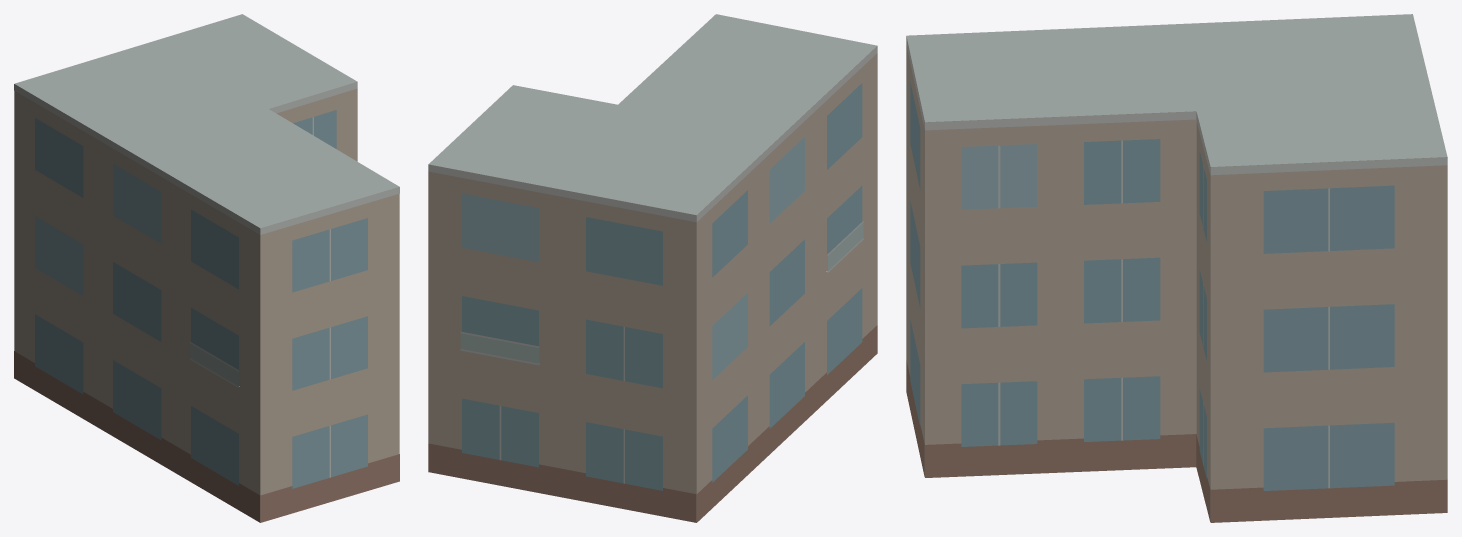
The model's file is survey-upis-32677549.glb.
3 views of the same model, side by side, from view 1: azimuth 30°, elevation 25°; view 2: azimuth 150°, elevation 25°; view 3: azimuth 270°, elevation 25° (orthographic). The views are drawn at different scales.
Visible parts, largest first — view 1: survey-upis-32677549.tmp; view 2: survey-upis-32677549.tmp; view 3: survey-upis-32677549.tmp.
Boxes of the visible parts, x1=… form: survey-upis-32677549.tmp: x1=14, y1=14, x2=399, y2=522; survey-upis-32677549.tmp: x1=428, y1=14, x2=877, y2=522; survey-upis-32677549.tmp: x1=906, y1=14, x2=1447, y2=522.
Size of the model in its own units: 9.79 by 10.6 by 14.62.
